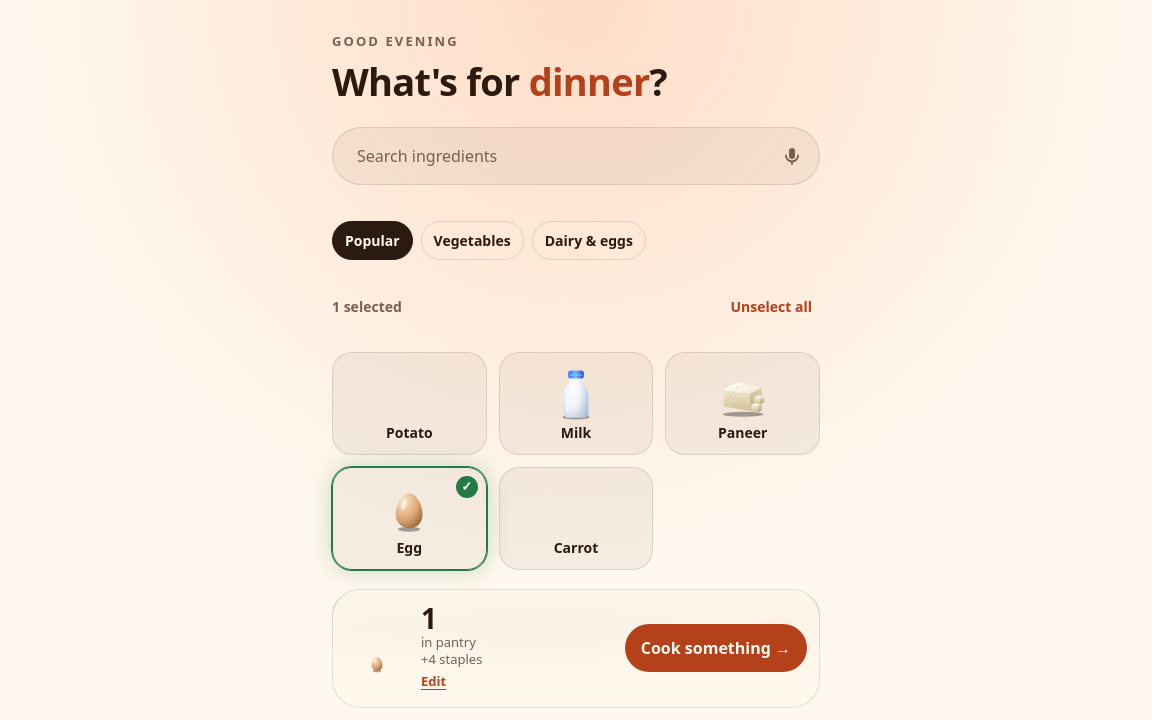
Test case: a stop that ended one sentence never cuts the next one short
Expected: the button "Potato" is shown, [332, 352, 487, 455]
Click the button named "Say what you have": click(792, 156) [772, 136, 812, 176]
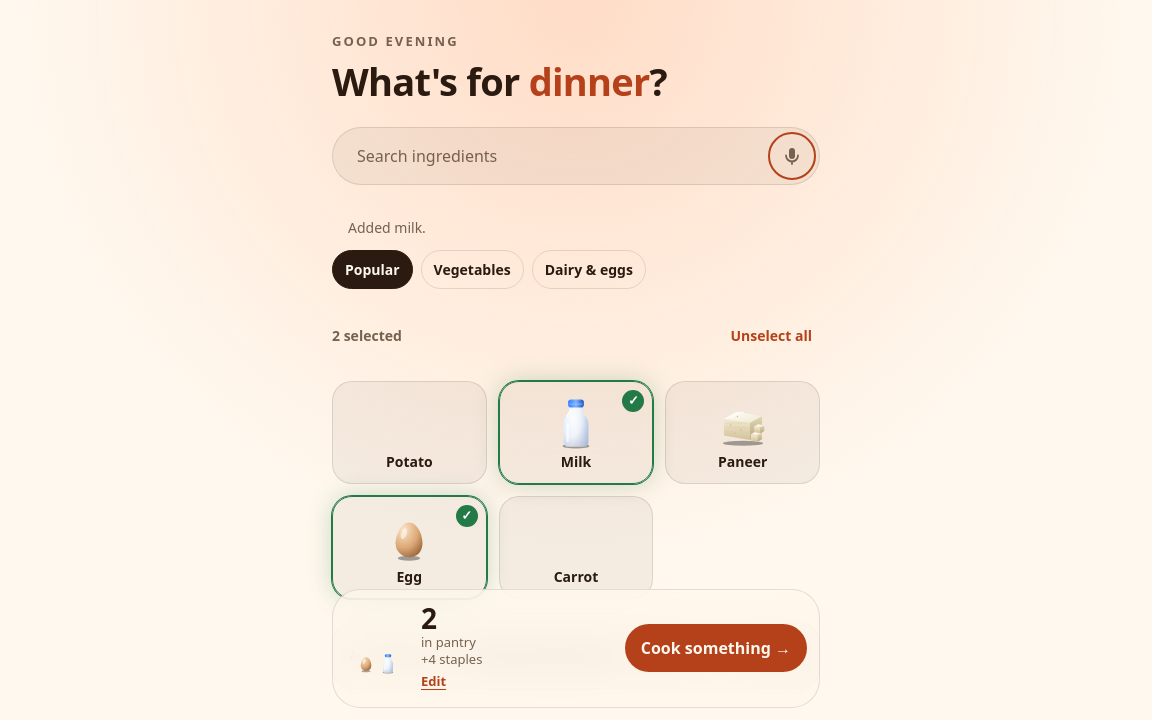
Click the button named "Say what you have": click(792, 156) [772, 136, 812, 176]
Wait 1100 ms
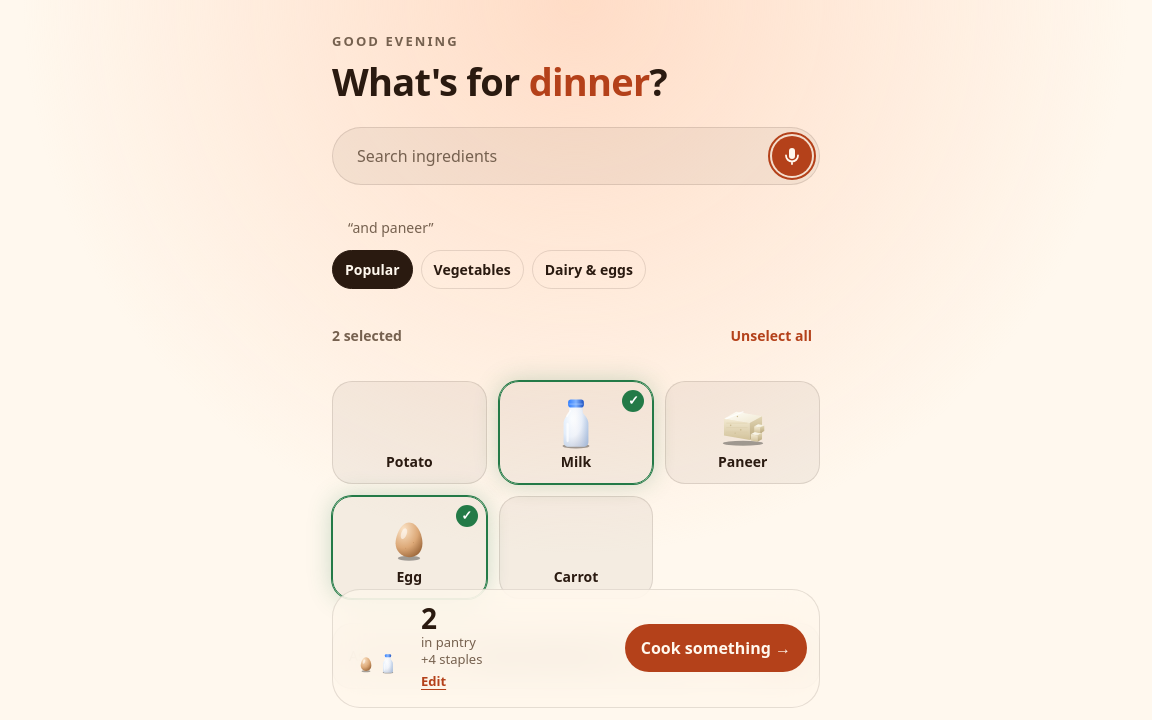
Result: the button named "Stop listening" is shown at [772, 136, 812, 176]
